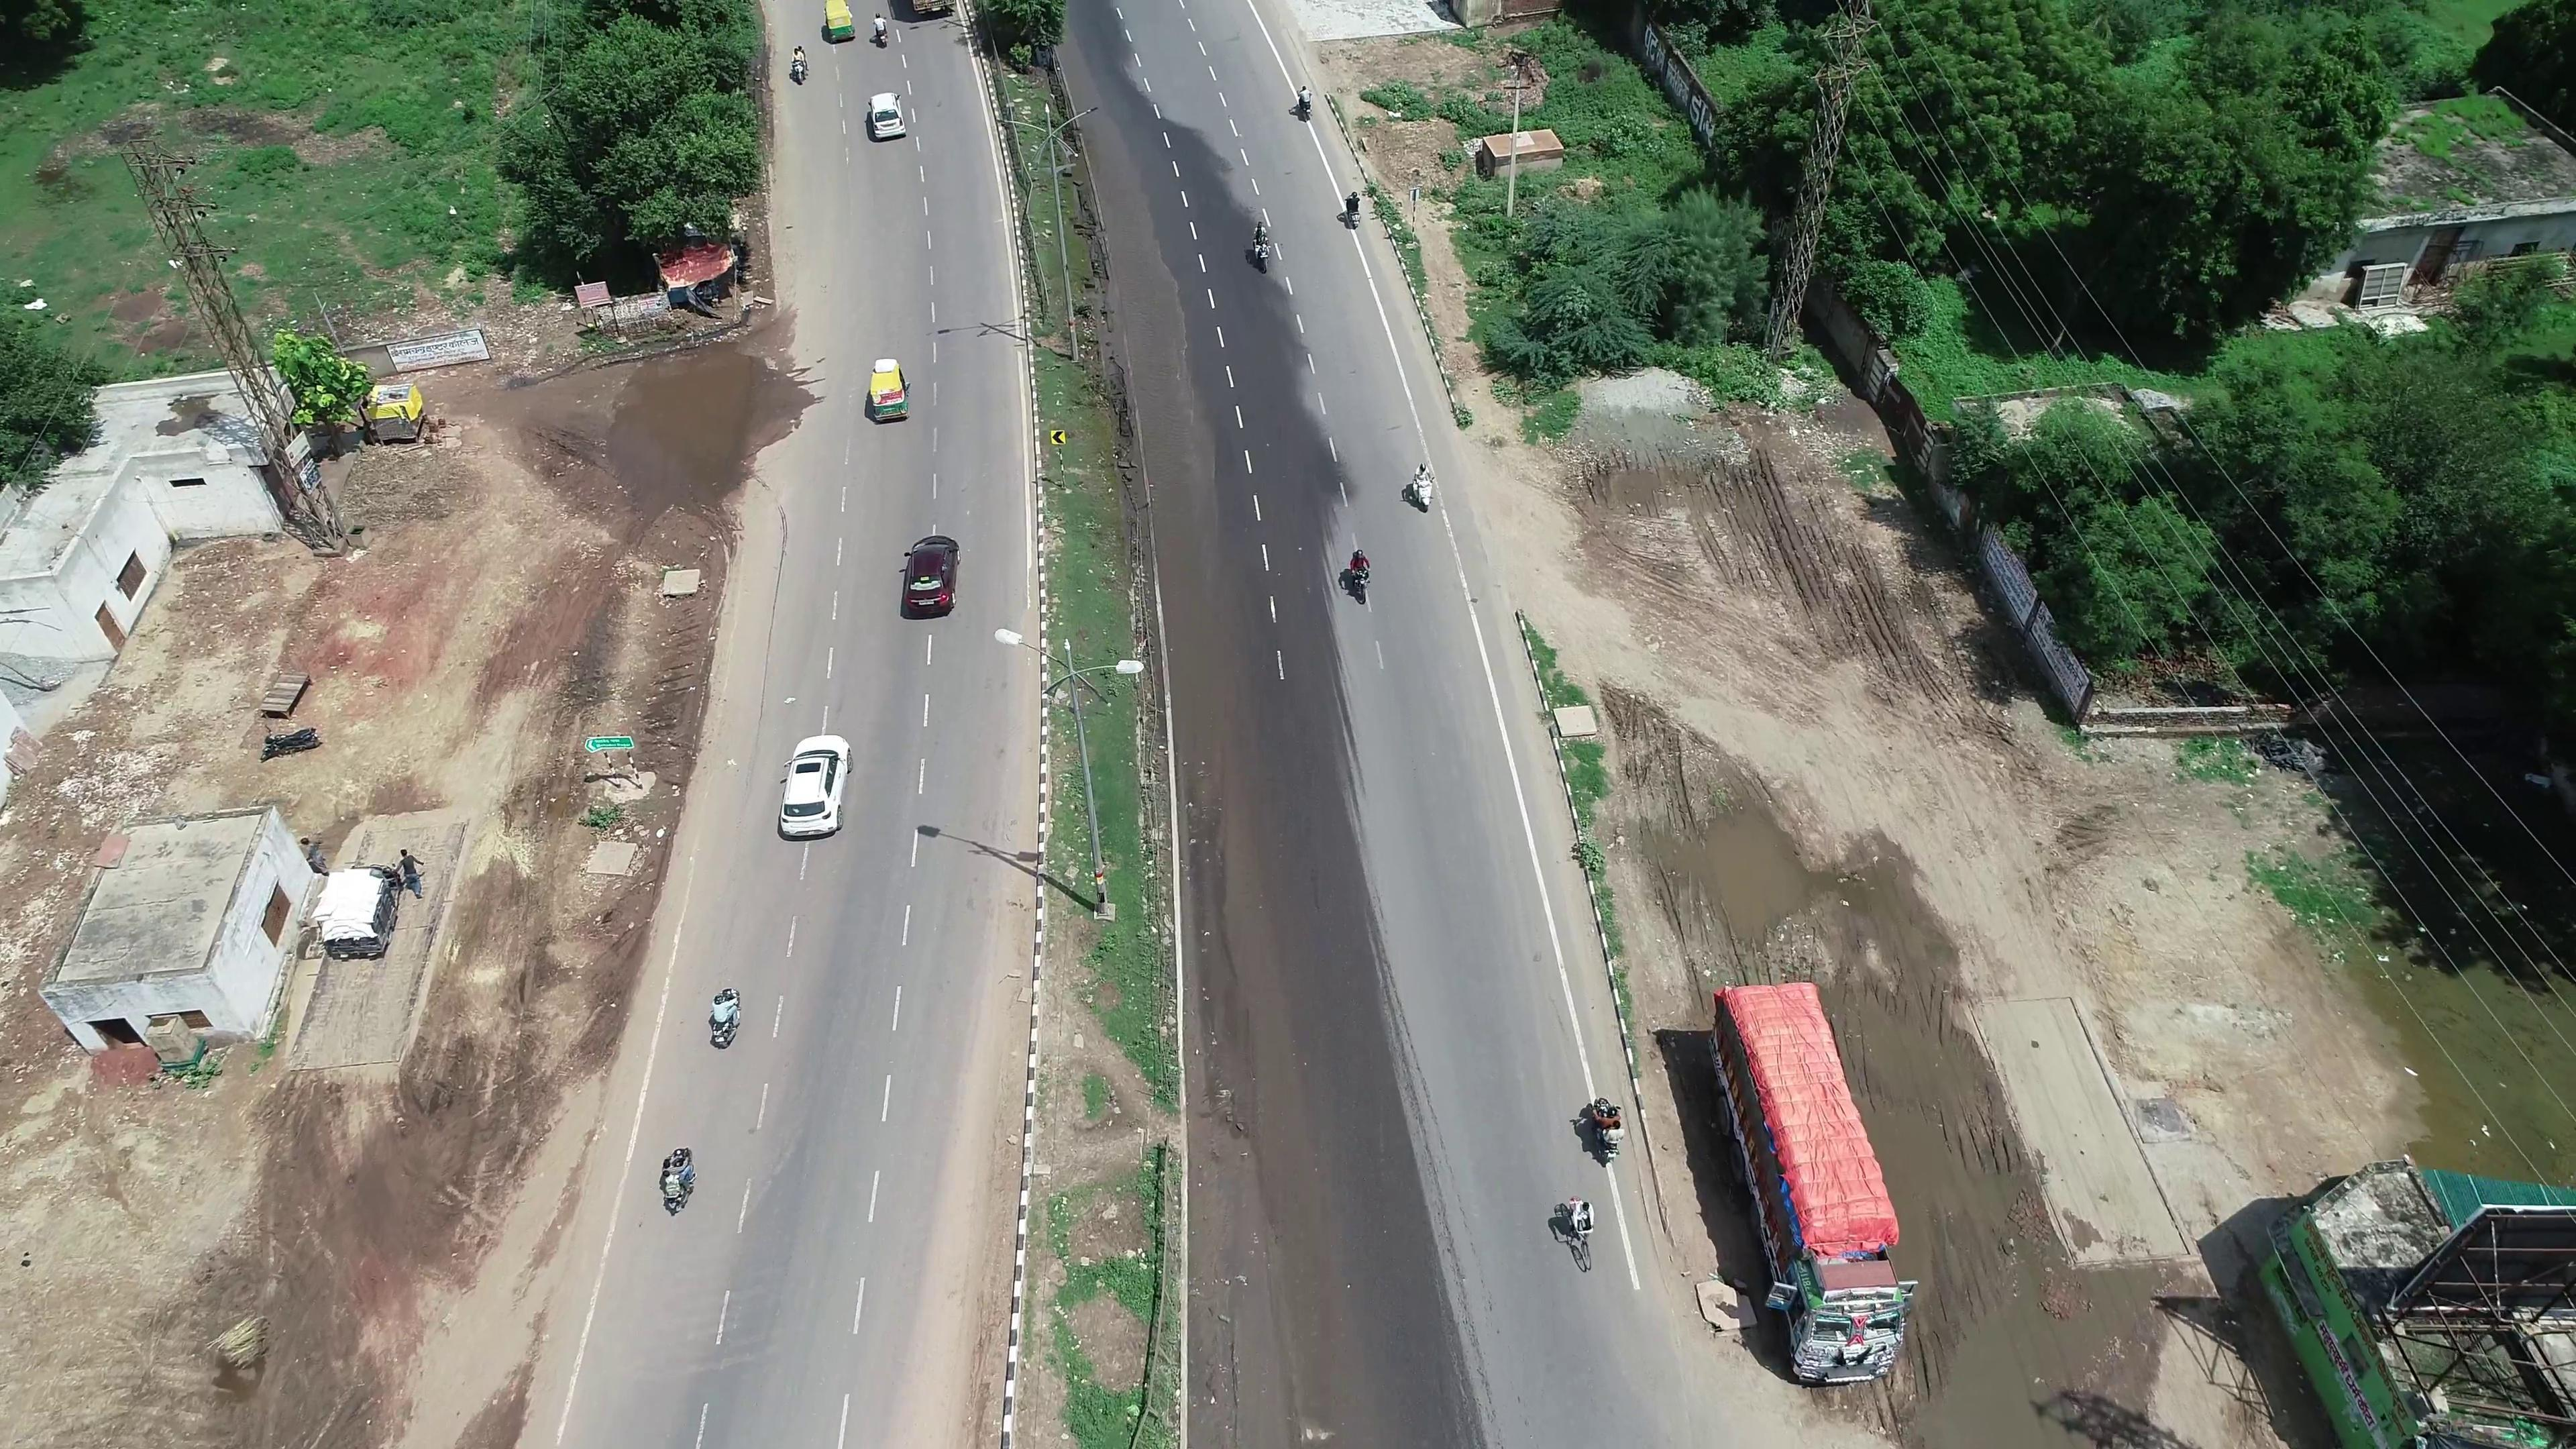Muddy_road: (1192, 1146, 1277, 1440)
Waterlogging: (1116, 198, 1253, 582)
